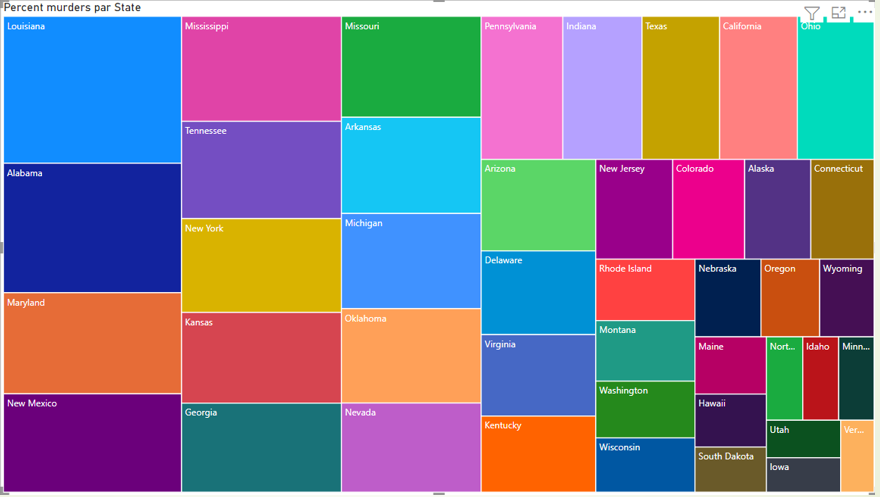

This screenshot's page, from the dashboard's own definition file:
{"tool":"powerbi","page":{"name":"Page 1","canvas":[1280,720],"ordinal":0},"visuals":[{"type":"tableEx","fields":{"Values":["Sum(output_projet_mmed statistic state population.Percent aggrravated)","Sum(output_projet_mmed statistic state population.Percent murders)","Sum(output_projet_mmed statistic state population.Percent robberies)"]},"box":[99.6,99.6,695.5,450.2],"z":1}]}

Visuals, with their boxes in screenshot pixels (x1, y1, x2, y2), scaled from the page's 1280x720 canvas onto the 880x497 screenshot:
tableEx - Sum(output_projet_mmed statistic state population.Percent aggrravated) x Sum(output_projet_mmed statistic state population.Percent murders): bbox=[68, 69, 547, 380]
